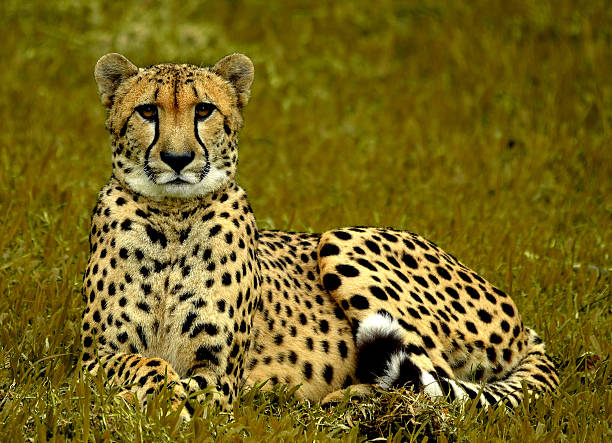cheetah: (88, 43, 267, 204)
